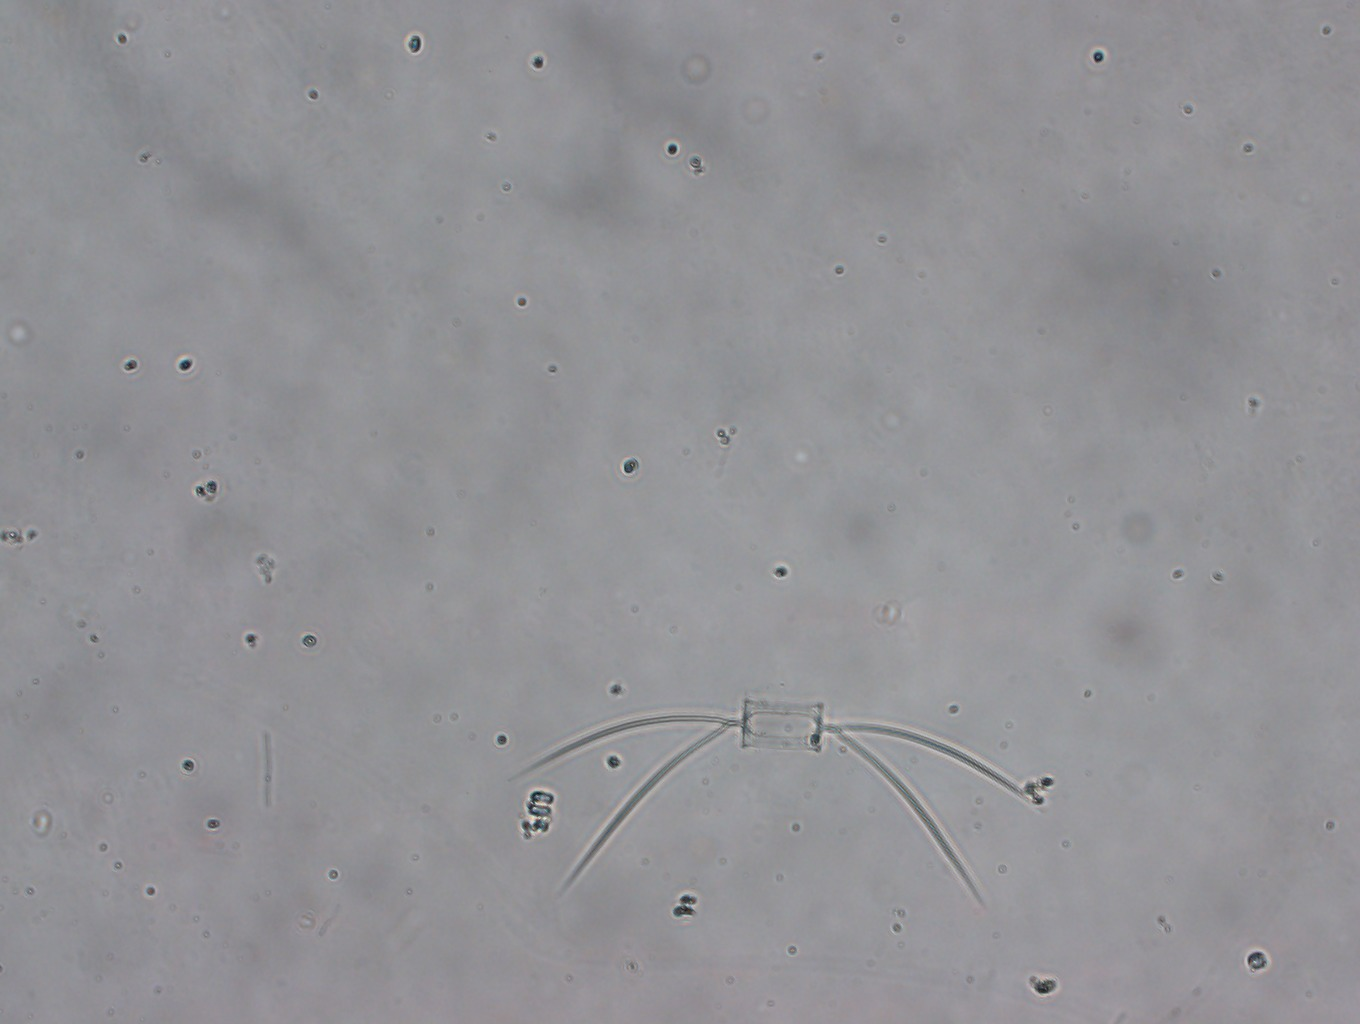chaetoceros: (513, 699, 1029, 907)
